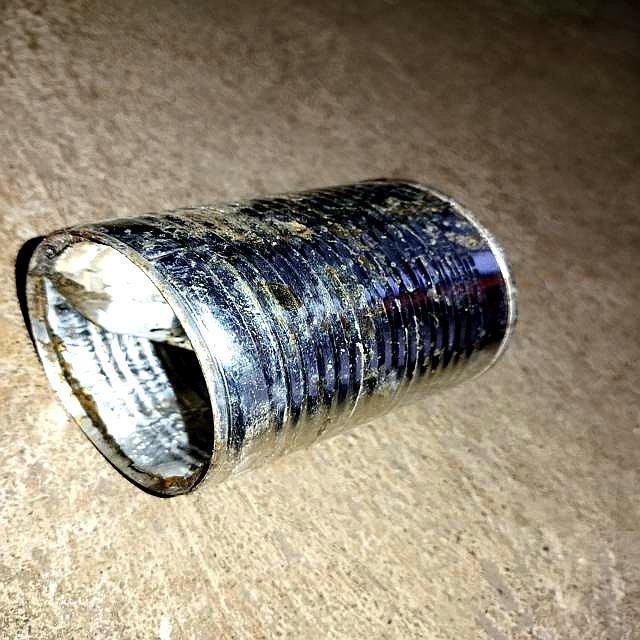Non-biodegradable: (16, 175, 521, 500)
